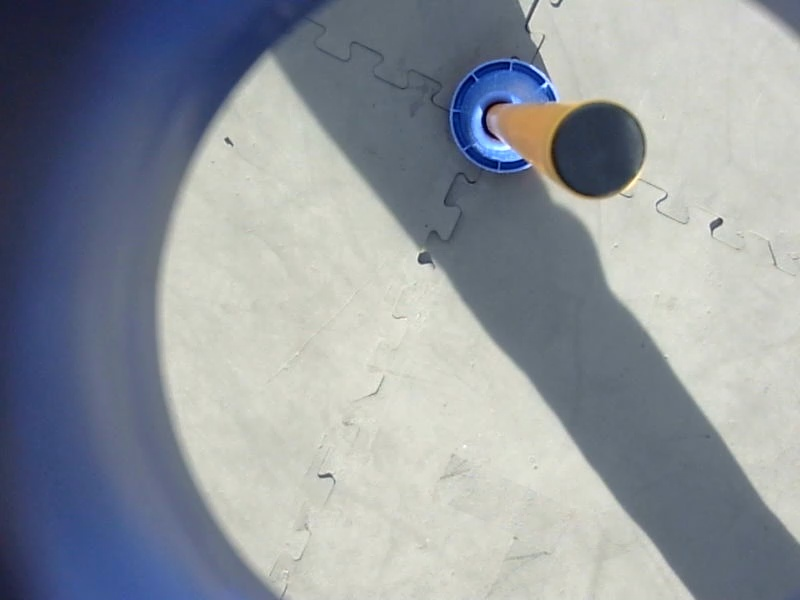tip: (543, 95, 652, 206)
